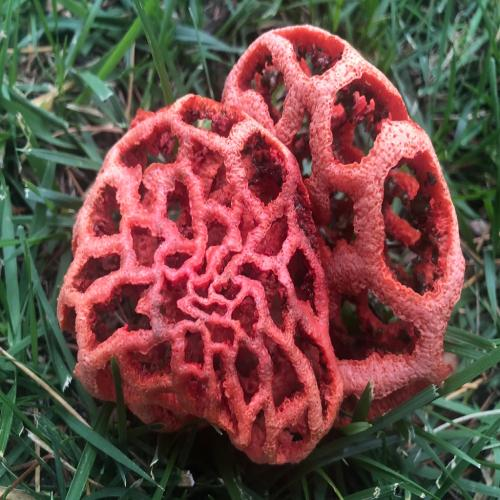Red Cage Fungus: (21, 71, 420, 481), (207, 0, 500, 427)
